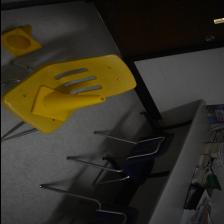cone: (30, 86, 105, 122), (0, 24, 42, 56)
